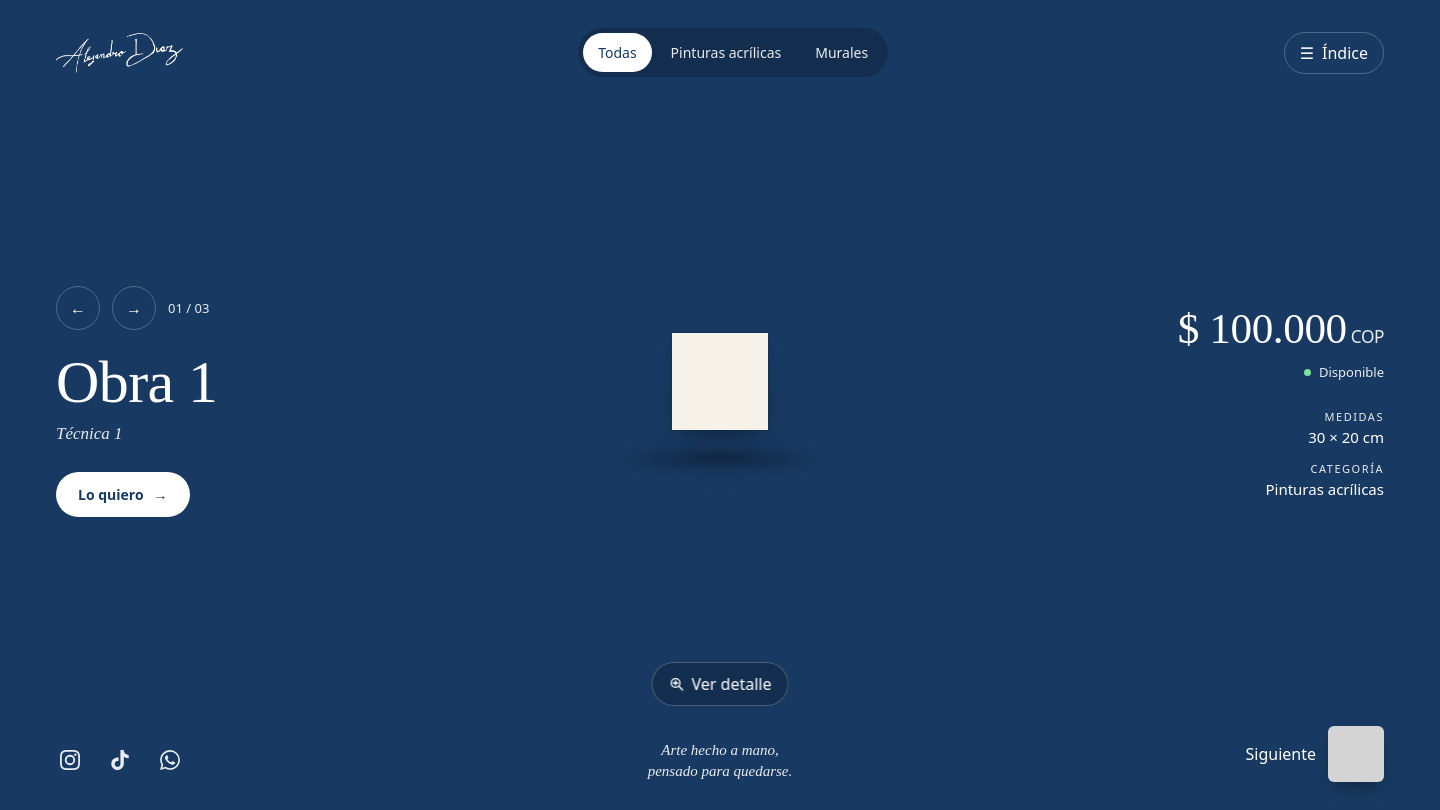
Test: siguiente / anterior (botones y teclado) cambian la obra y la URL
Expected: the heading "Obra 1" is shown, [56,352,217,414]
Click the button named "Obra siguiente": click(134, 308) [112,286,156,330]
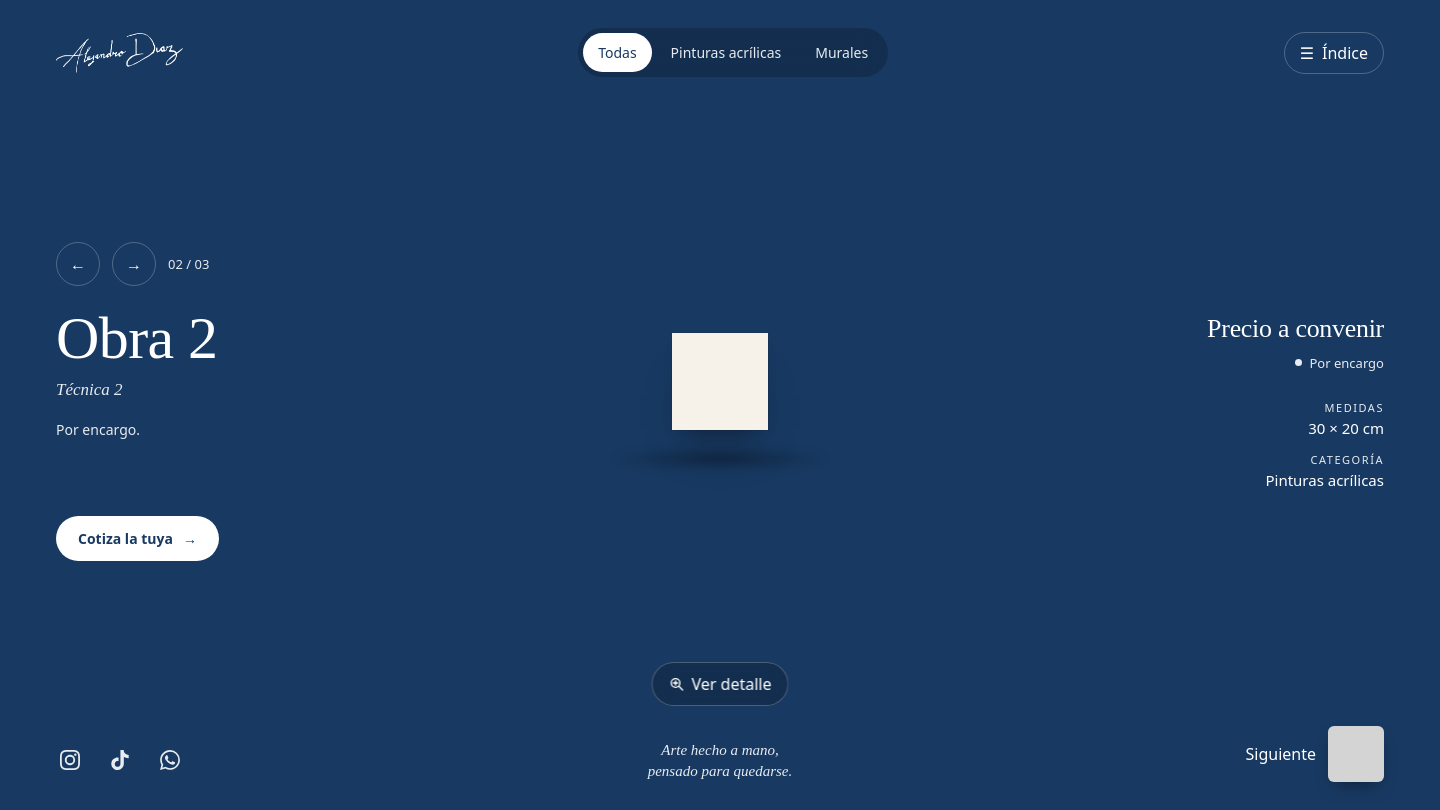
Now the heading "Obra 2" is shown, box [56,308,217,370]
Now the text "Precio a convenir" is shown, box [1207,314,1384,344]
Now the text "Por encargo." is shown, box [56,420,140,439]
Press ArrowRight
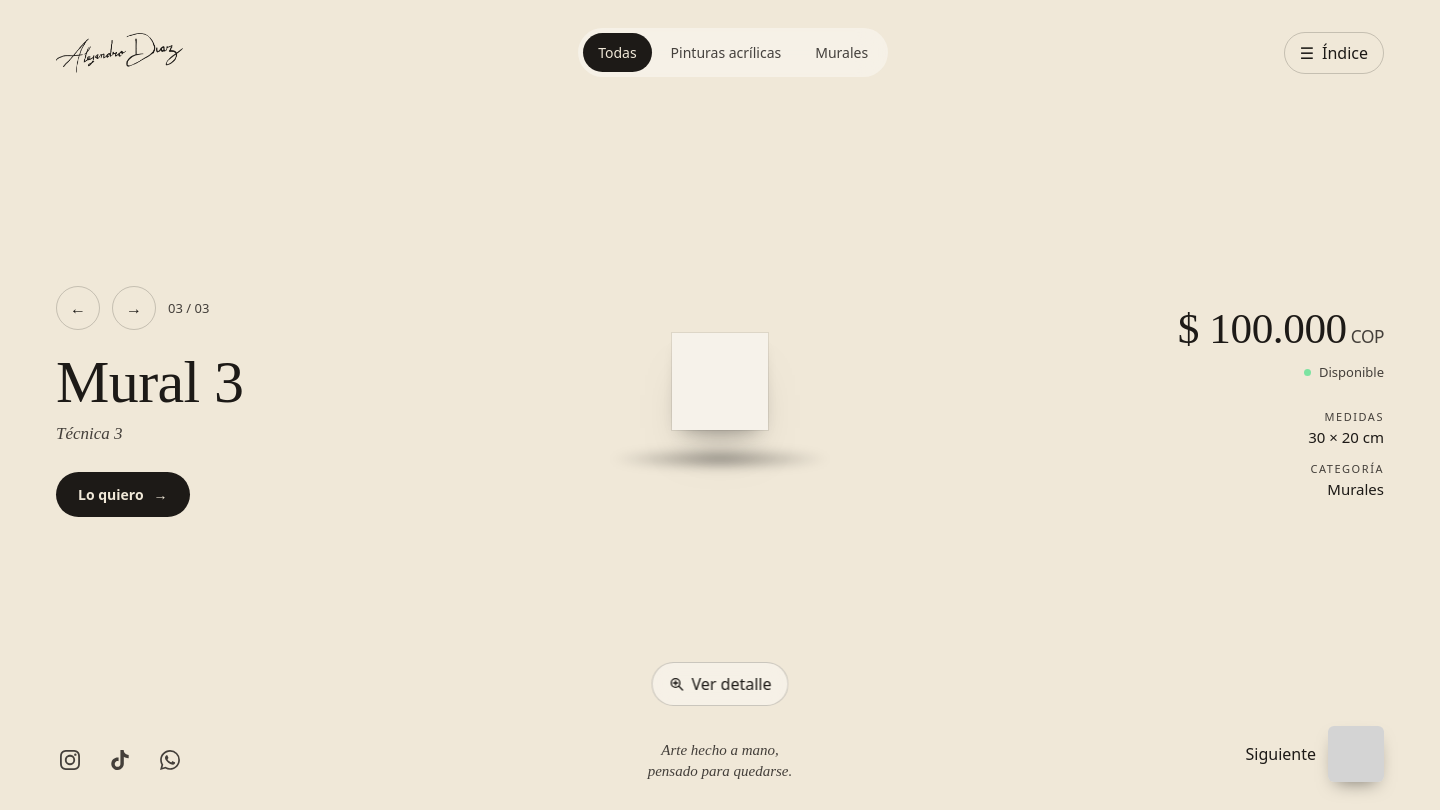
Now the heading "Mural 3" is shown, box [56,352,243,414]
Press ArrowRight
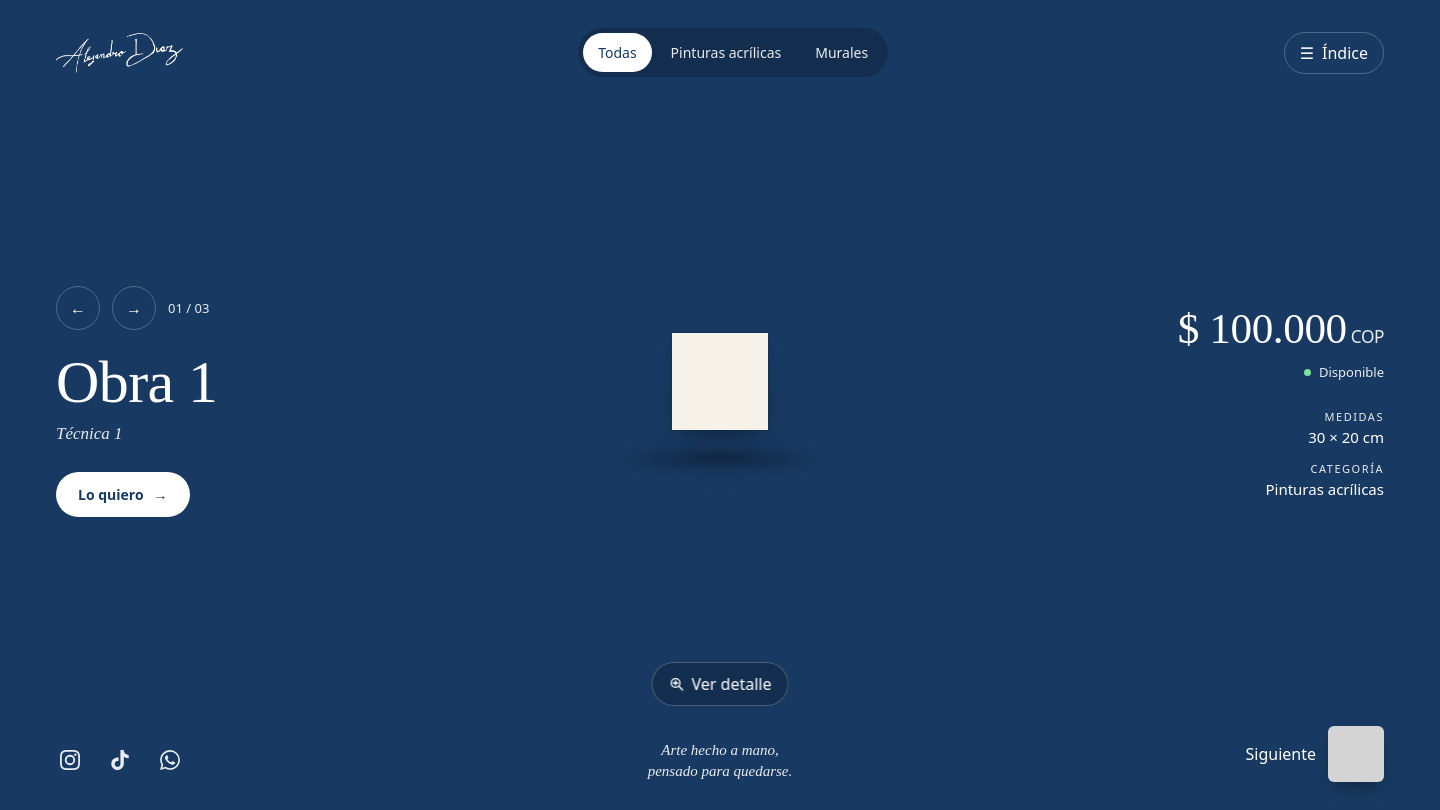
Now the heading "Obra 1" is shown, box [56,352,217,414]
Click the button named "Obra anterior": click(78, 308) [56,286,100,330]
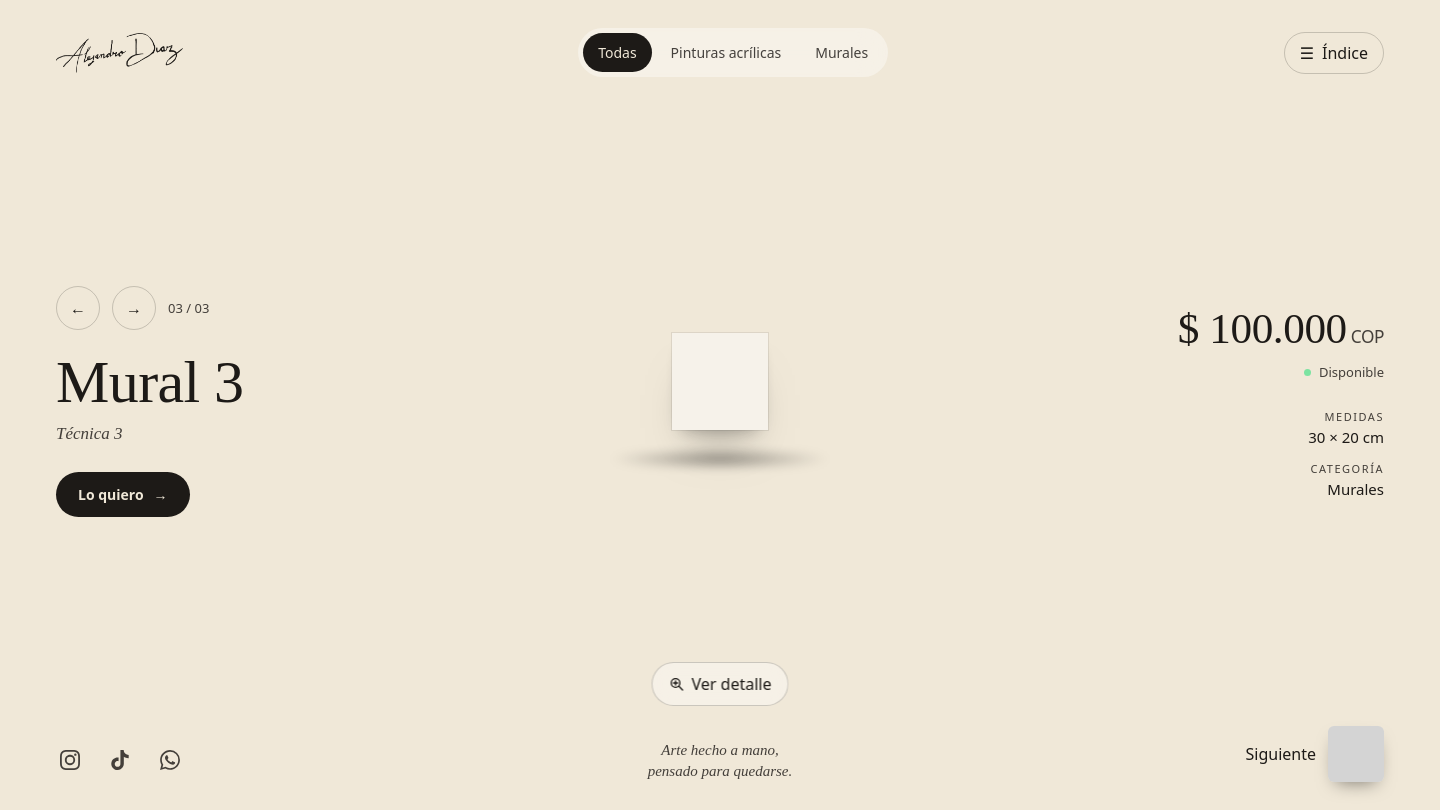
Now the heading "Mural 3" is shown, box [56,352,243,414]
